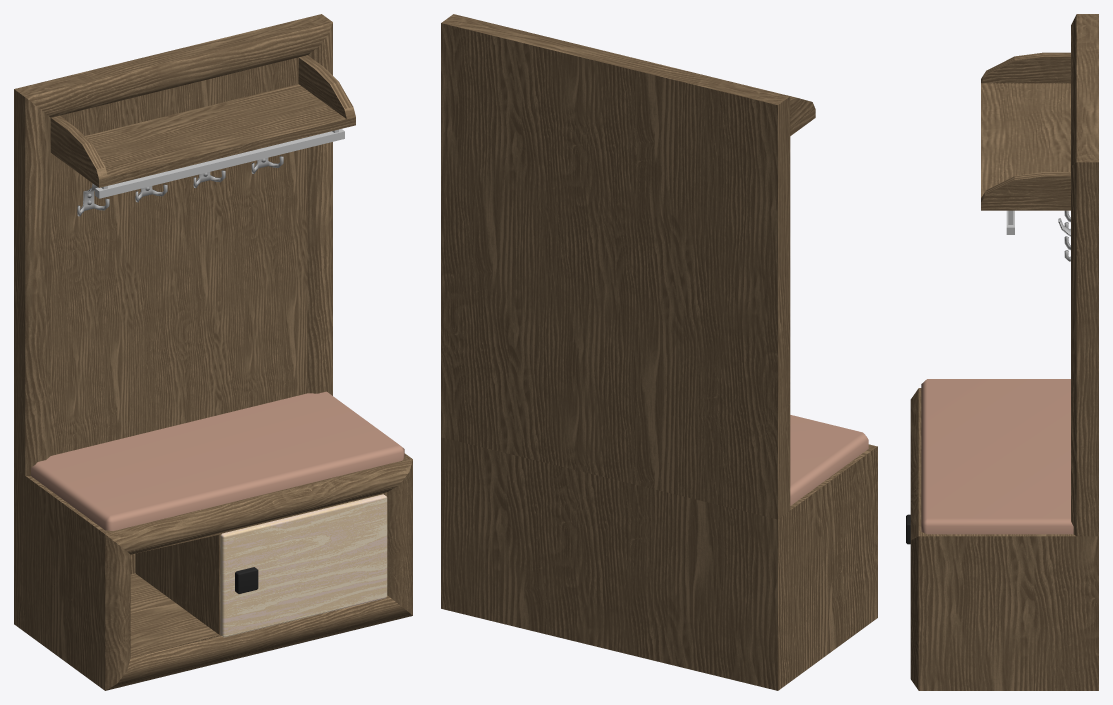
File: cupboard_010.fbx
3 renders of one model, left to right at view 1: azimuth 30°, elevation 25°; view 2: azimuth 150°, elevation 25°; view 3: azimuth 270°, elevation 25°, orthographic. The views are drawn at different scales.
Visible parts, largest first — view 1: cupboard_010; view 2: cupboard_010; view 3: cupboard_010.
Part boxes in pixels (box(x1,y1,x2,y2)): cupboard_010: box(14, 14, 412, 690); cupboard_010: box(441, 14, 877, 690); cupboard_010: box(906, 14, 1098, 690).
Bounding box in the file's own units: 135 × 74.22 × 224.
